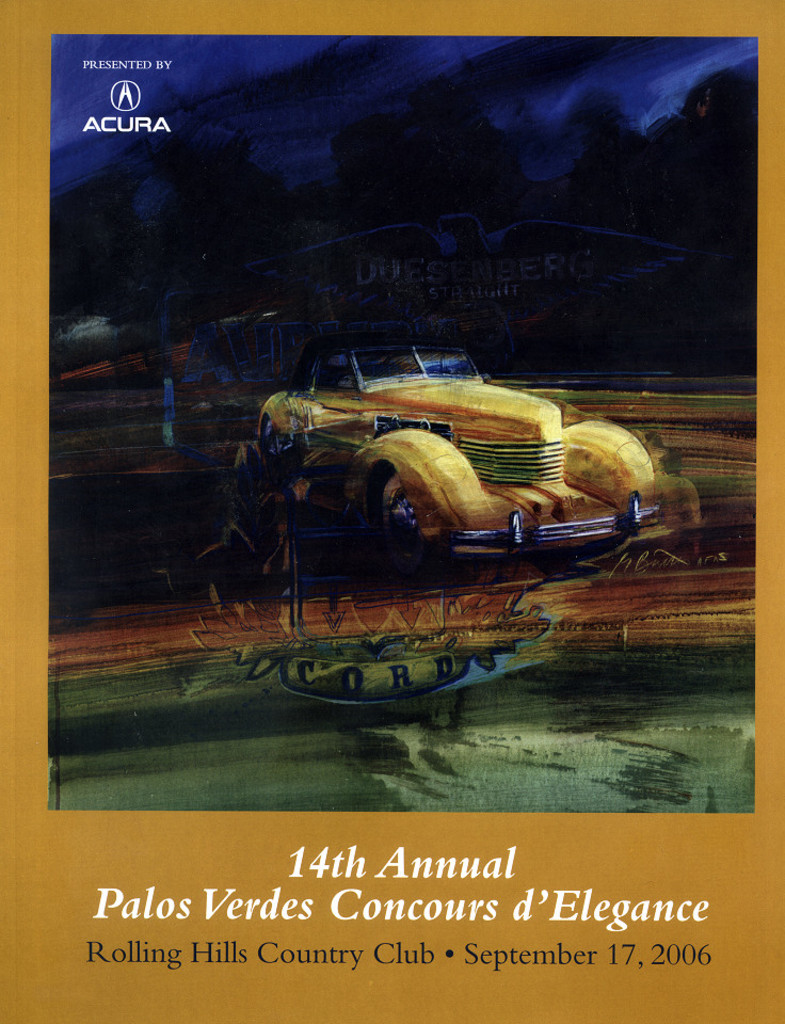Car: (253, 346, 661, 582)
